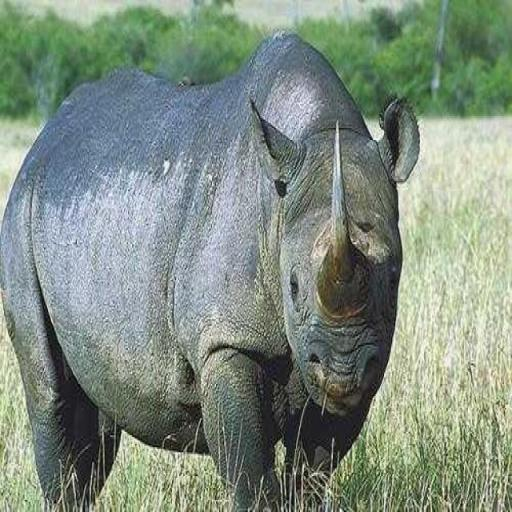Rhino: (0, 26, 420, 510)
